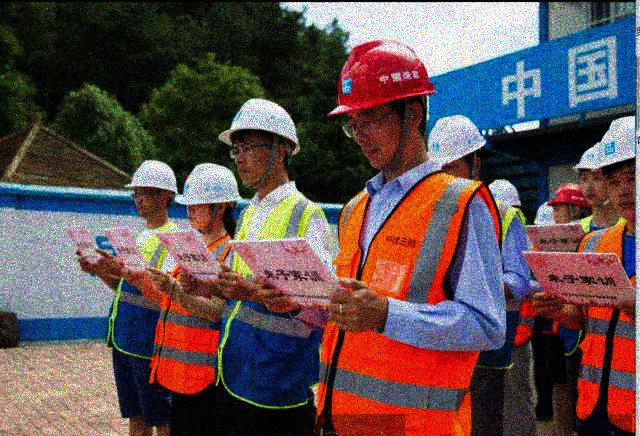helmet: (325, 38, 430, 168), (215, 96, 303, 188), (598, 113, 640, 224), (424, 113, 486, 185), (180, 161, 242, 230), (121, 159, 180, 219), (571, 143, 613, 208), (548, 182, 589, 225)
